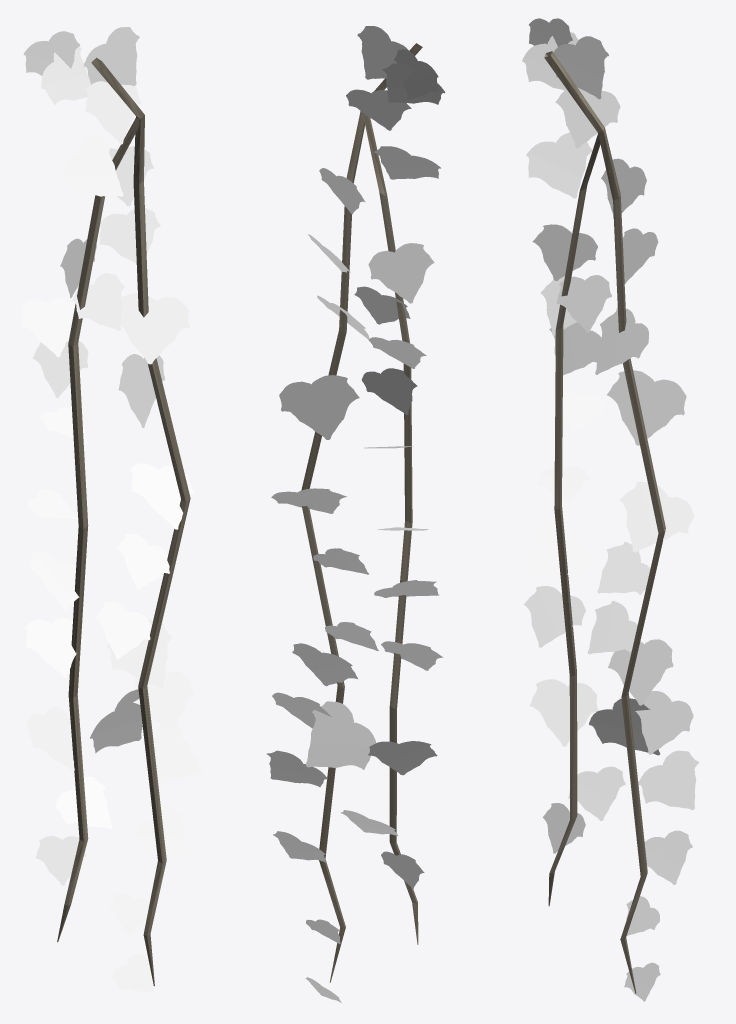
The model's file is Ivy_A_01.fbx.
3 renders of one model, left to right at view 1: azimuth 30°, elevation 25°; view 2: azimuth 150°, elevation 25°; view 3: azimuth 330°, elevation 25°, orthographic. The views are drawn at different scales.
Parts seen in each view (by area): view 1: Ivy_A_01; view 2: Ivy_A_01; view 3: Ivy_A_01.
Part boxes in pixels (x1,y1,x2,y2): Ivy_A_01: [21, 27, 202, 992]; Ivy_A_01: [267, 26, 445, 1002]; Ivy_A_01: [522, 18, 698, 1001].
Bounding box in the file's own units: 87.5 × 409 × 44.54.
2 materials, 2 textured.
